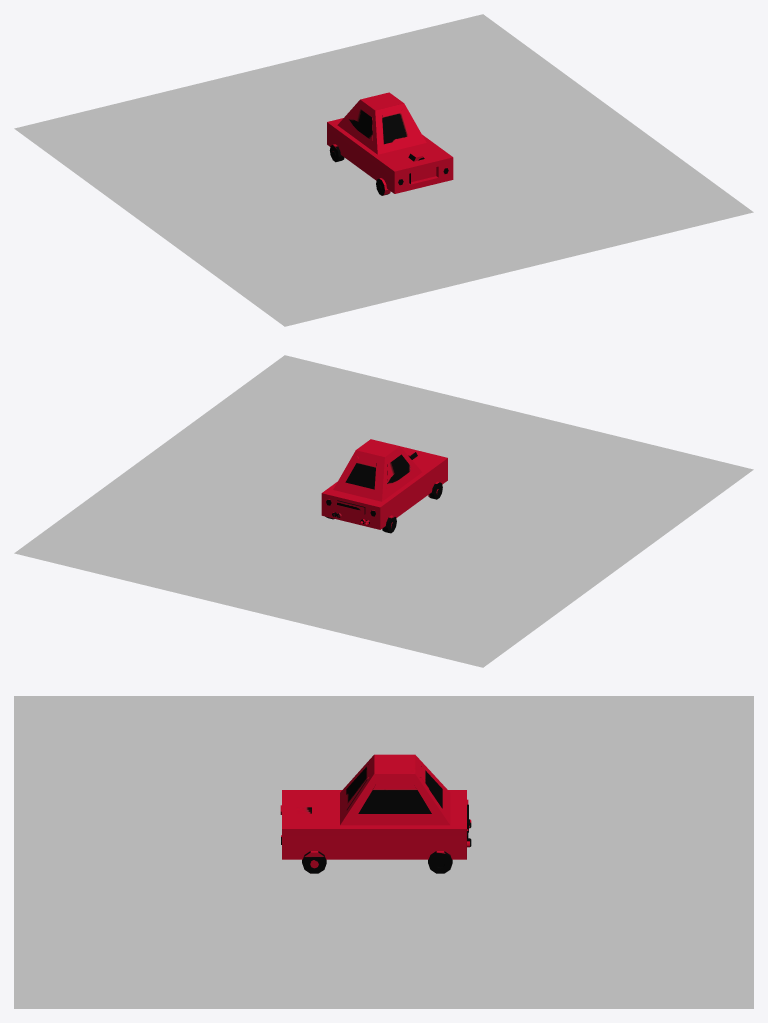
Rendered from Car.obj.
3 renders of one model, top to bottom at view 1: azimuth 30°, elevation 25°; view 2: azimuth 150°, elevation 25°; view 3: azimuth 270°, elevation 25°, orthographic. The views are drawn at different scales.
Visible parts, largest first — view 1: Cube; view 2: Cube; view 3: Cube.
Part boxes in pixels (x1,y1,x2,y2): Cube: (14,14,753,326); Cube: (14,355,753,667); Cube: (14,696,753,1008).
Size of the model in its own units: 23.98 by 3.21 by 23.98.
